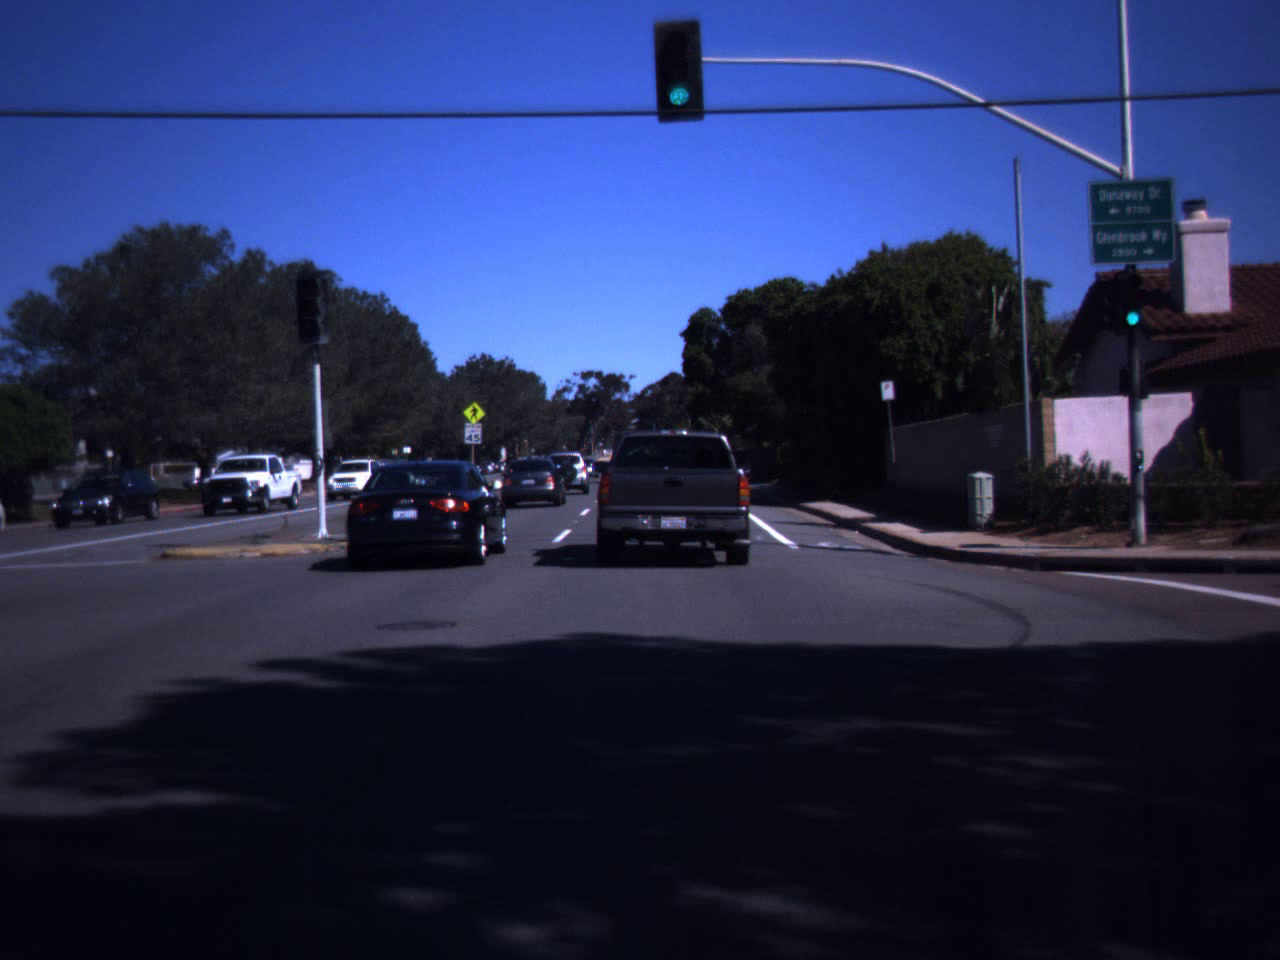go: (661, 37, 703, 102), (1136, 278, 1163, 328)
